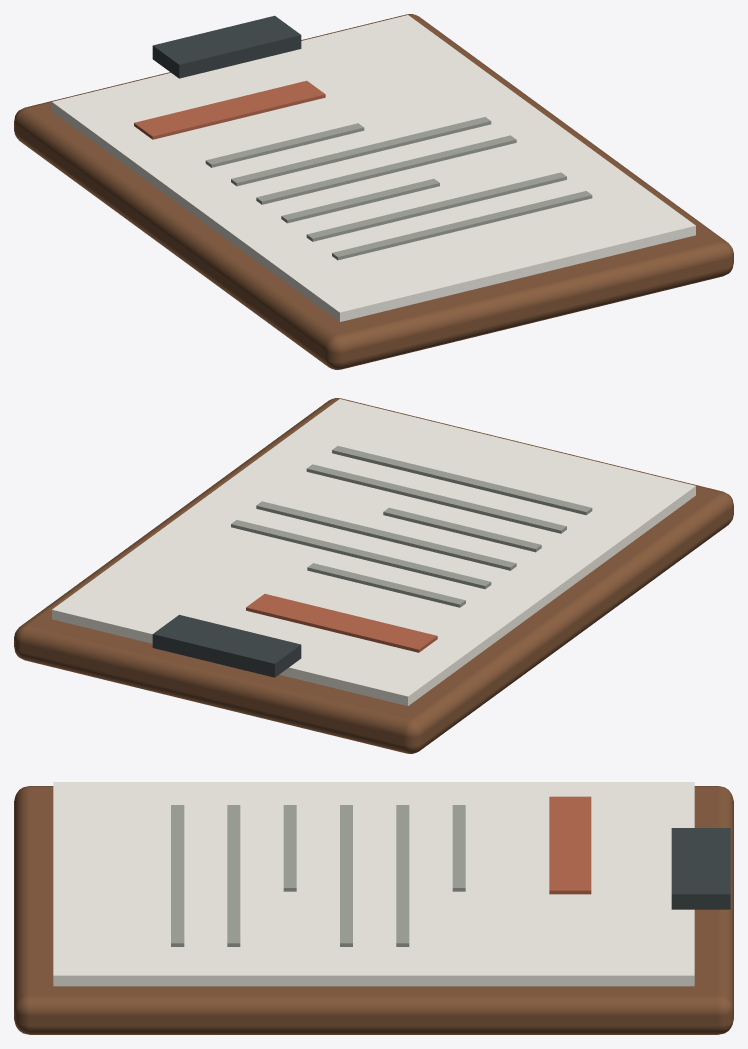
File: resume.glb
3 views of the same model, one above another, from view 1: azimuth 30°, elevation 25°; view 2: azimuth 150°, elevation 25°; view 3: azimuth 270°, elevation 25° (orthographic). The views are drawn at different scales.
Bounding box in the file's own units: 0.4 × 0.0575 × 0.55.
